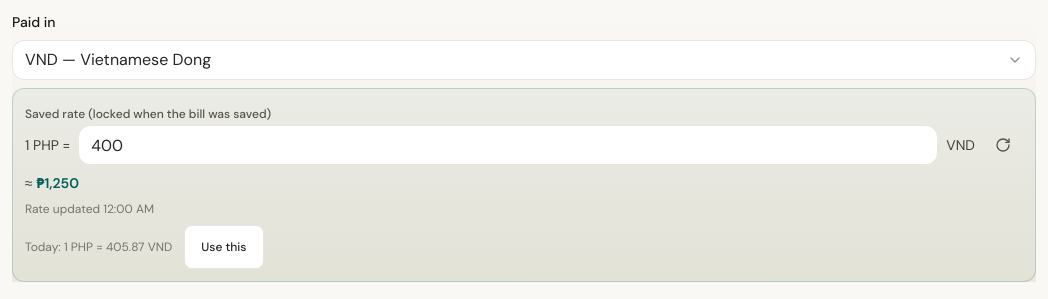
Test: CurrencyConversionField › C25: a differing live rate offers "Use this", which sets it as online; otherwise the rate is kept
Click the button "Use this" at [224, 247], box [184,225,264,269]
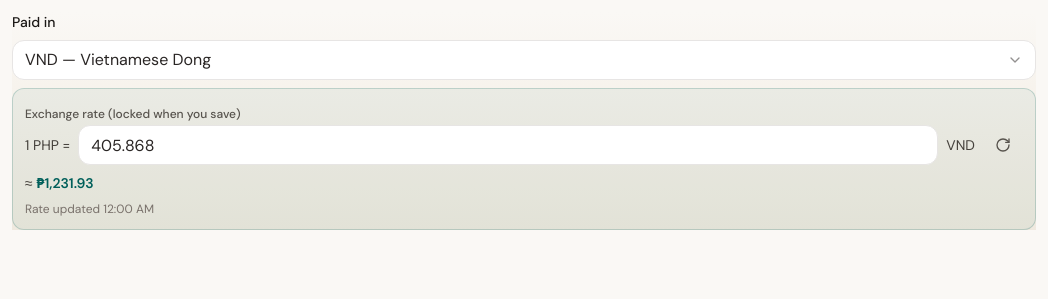
Result: the field labelled "Exchange rate (locked when you save)" holds "405.868" at [78,125,938,165]
Result: the text "Saved rate" is gone
